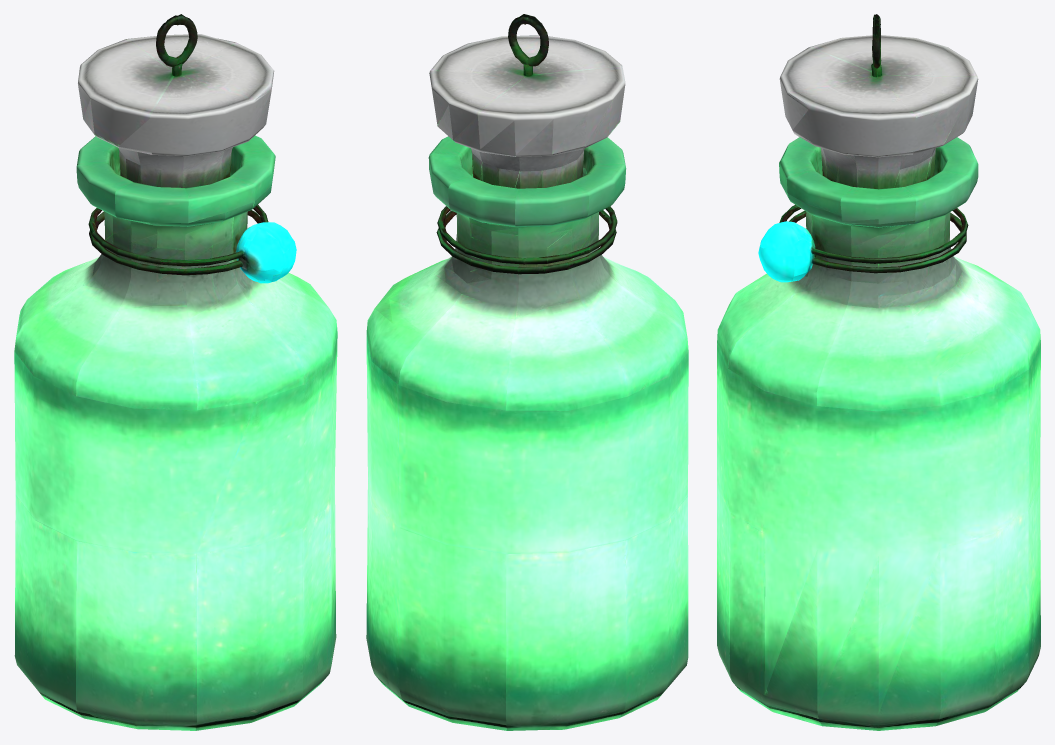
The model's file is aqua_fortis.glb.
The picture shows the model from 3 angles, left to right: view 1: azimuth 30°, elevation 25°; view 2: azimuth 150°, elevation 25°; view 3: azimuth 270°, elevation 25°; orthographic projection.
Size of the model in its own units: 0.4473 by 1 by 0.4443.
1 material, 1 textured.
